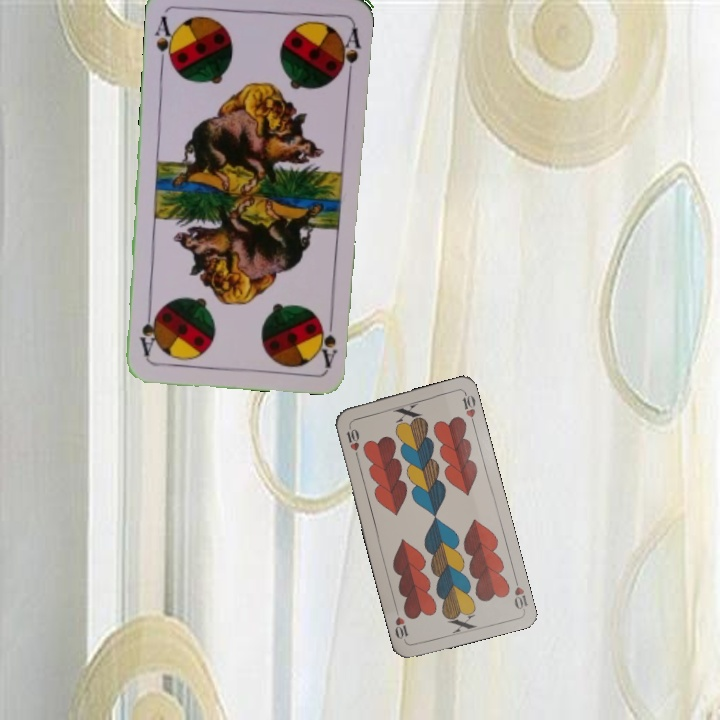H10: (342, 421, 362, 461), (510, 572, 530, 612)
SA: (151, 12, 178, 69), (318, 310, 340, 369)
